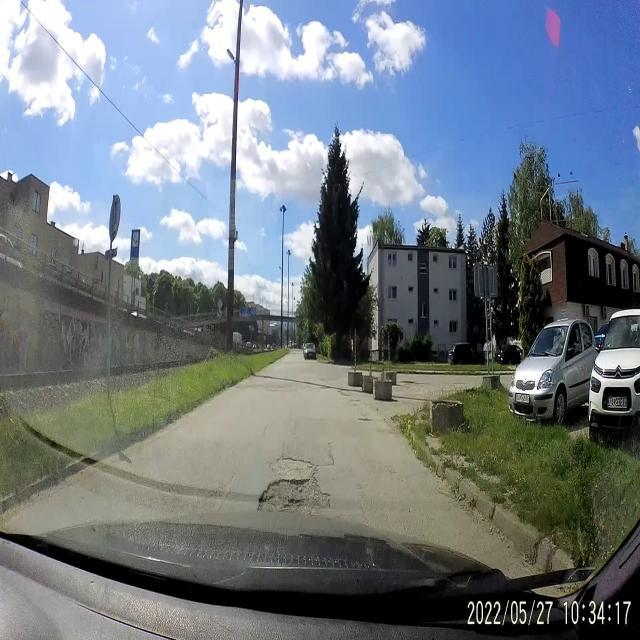Pothole: (258, 476, 330, 518), (269, 450, 317, 476), (326, 442, 336, 473), (356, 414, 374, 426), (348, 396, 361, 408)
